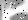person: (1, 1, 28, 20)
